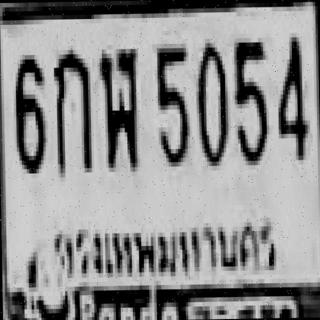A01: (51, 45, 89, 173)
A42: (97, 44, 137, 168)
N00: (195, 38, 226, 161)
N04: (274, 33, 306, 156)
N05: (231, 38, 267, 161), (154, 43, 188, 162)
N06: (12, 50, 43, 169)
